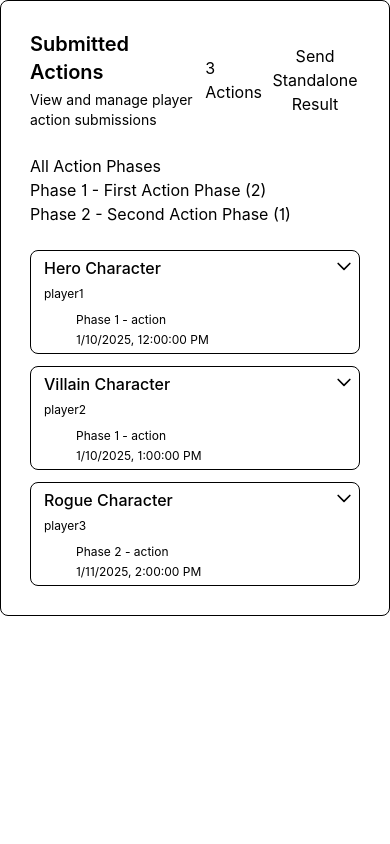
Test: ActionsList › Action Cards › collapses action card when clicked again
The image size is (390, 844).
Click the heading "Hero Character": (102, 268) [44, 258, 161, 278]
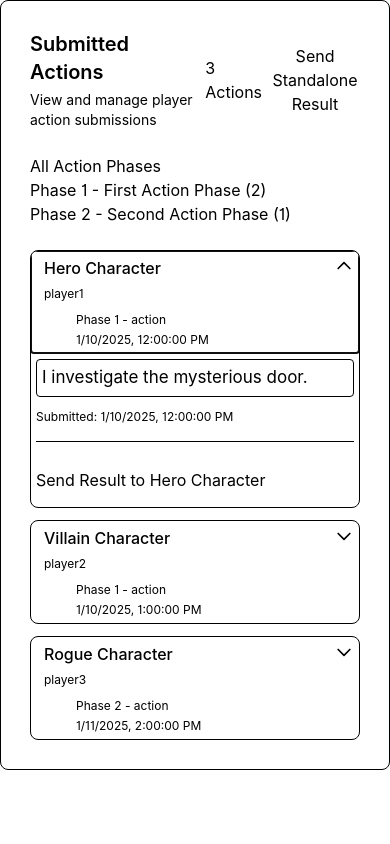
Now the text "I investigate the mysterious door." is shown, box [42, 365, 348, 390]
Click the heading "Hero Character": (102, 268) [44, 258, 161, 278]
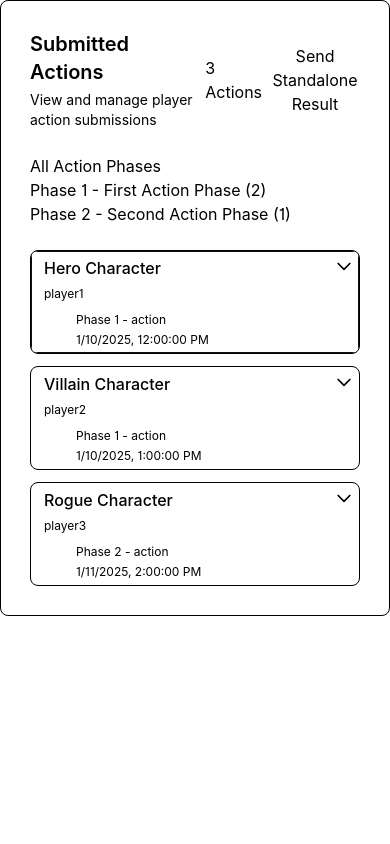
Now the text "I investigate the mysterious door." is gone
